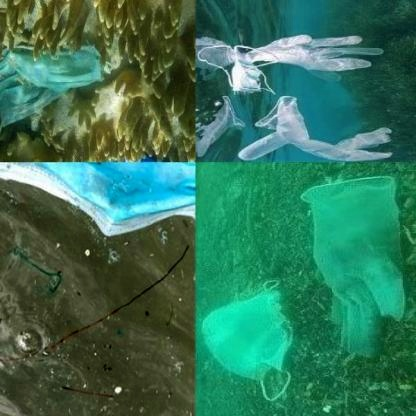Mask: (0, 27, 116, 161), (0, 162, 195, 241), (198, 278, 296, 404), (230, 46, 280, 92)
glove: (307, 172, 407, 359), (232, 98, 400, 161), (241, 29, 381, 80), (91, 150, 195, 161)
